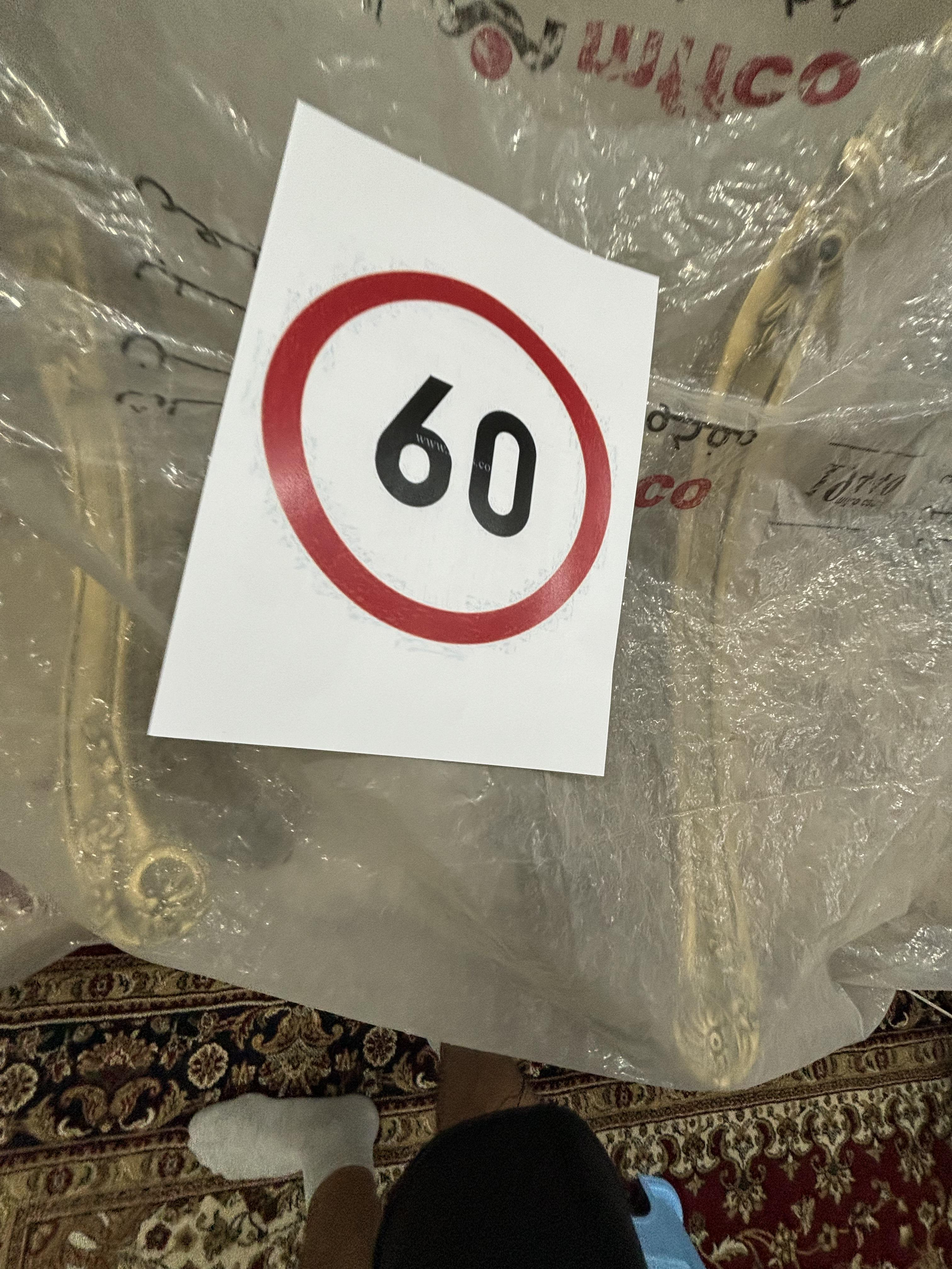60-Speed: (262, 265, 621, 646)
